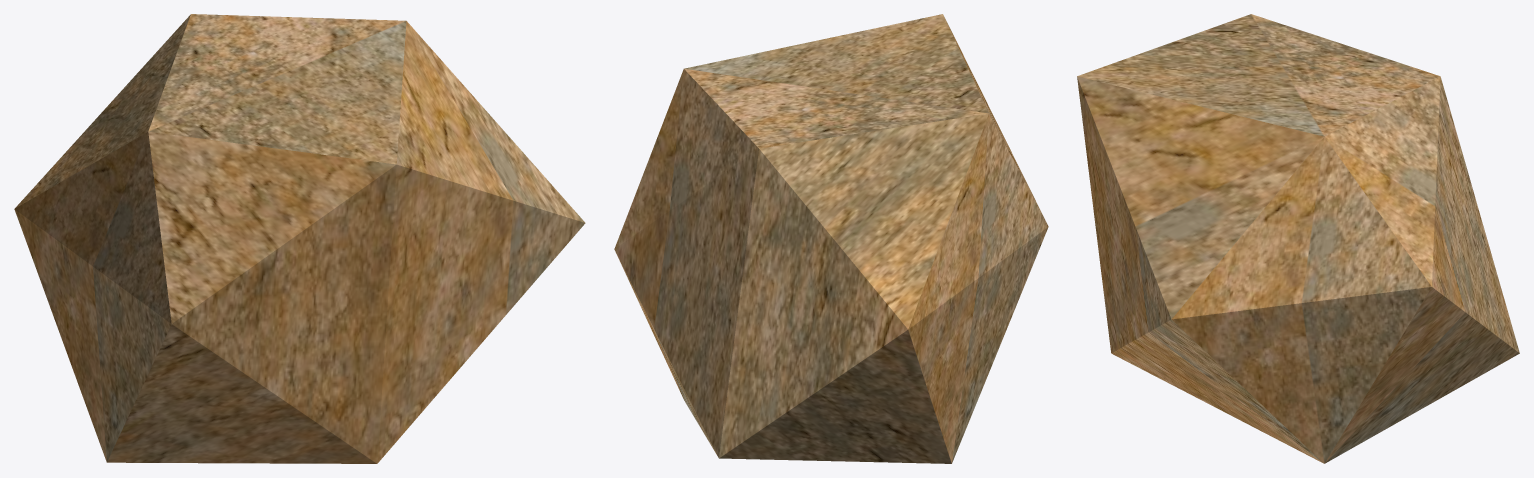
The model's file is Rock.obj.
3 views of the same model, side by side, from view 1: azimuth 30°, elevation 25°; view 2: azimuth 150°, elevation 25°; view 3: azimuth 270°, elevation 25° (orthographic). The views are drawn at different scales.
Visible parts, largest first — view 1: Rock; view 2: Rock; view 3: Rock.
Boxes of the visible parts, <box> form: Rock: <box>14,14,585,463</box>; Rock: <box>614,14,1048,463</box>; Rock: <box>1077,14,1519,463</box>.
Size of the model in its own units: 0.2906 by 0.2483 by 0.3045.
